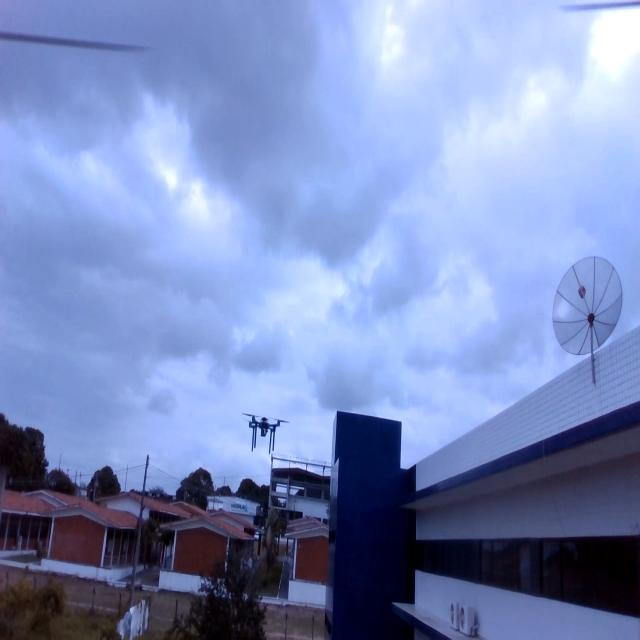-uav-: (239, 400, 293, 458)
